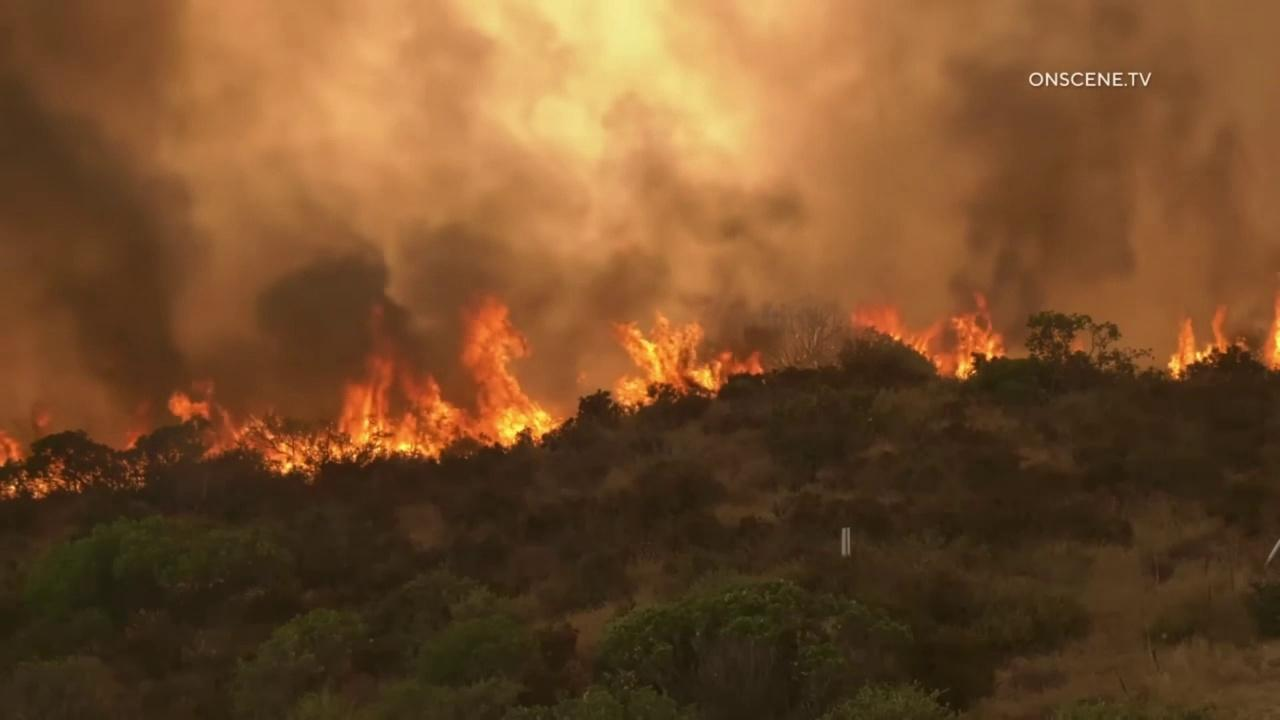fire: (167, 293, 564, 486), (610, 309, 766, 417), (848, 289, 1007, 384), (0, 405, 92, 501), (1166, 302, 1233, 381), (1256, 271, 1280, 373), (121, 432, 143, 454), (1234, 335, 1251, 352), (1072, 338, 1085, 354)
smoke: (0, 0, 1280, 454)
